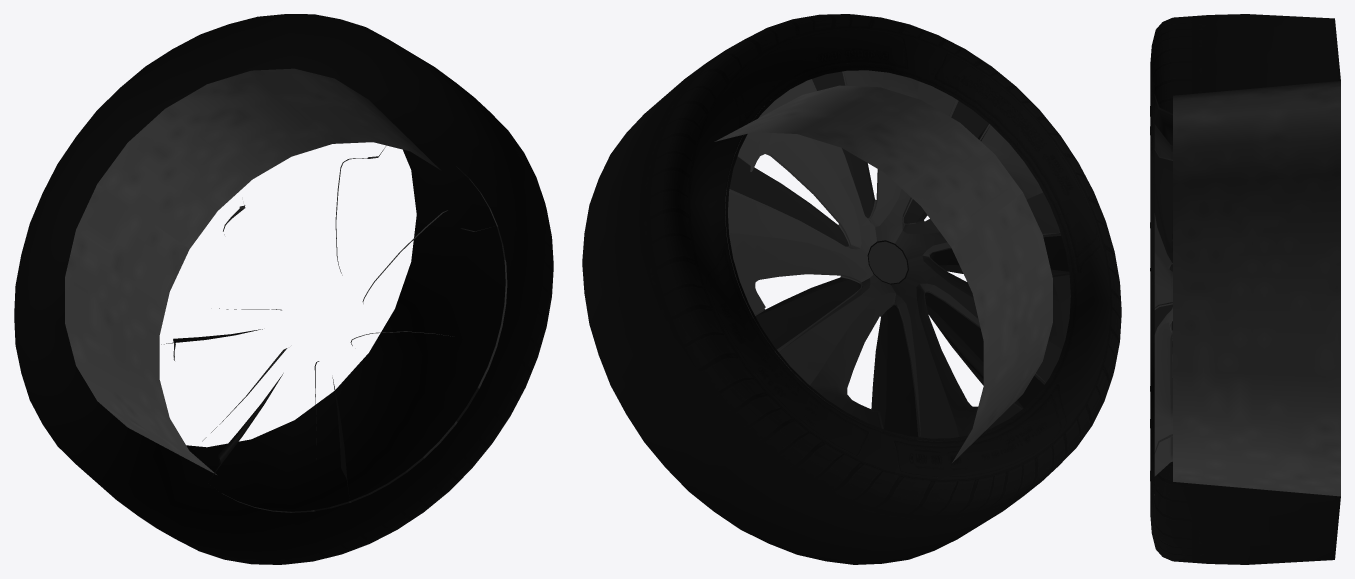
The model's file is Cardenio.glb.
3 renders of one model, left to right at view 1: azimuth 30°, elevation 25°; view 2: azimuth 150°, elevation 25°; view 3: azimuth 270°, elevation 25°, orthographic. The views are drawn at different scales.
Visible parts, largest first — view 1: Wheel_Cardenio2; view 2: Wheel_Cardenio2; view 3: Wheel_Cardenio2.
Boxes of the visible parts, box(x1,y1,x2,y2) form: Wheel_Cardenio2: box(14, 14, 553, 564); Wheel_Cardenio2: box(582, 14, 1121, 564); Wheel_Cardenio2: box(1150, 14, 1340, 564).
Size of the model in its own units: 0.7408 by 0.7393 by 0.2568.
Materials: 2 (2 with a texture image).
